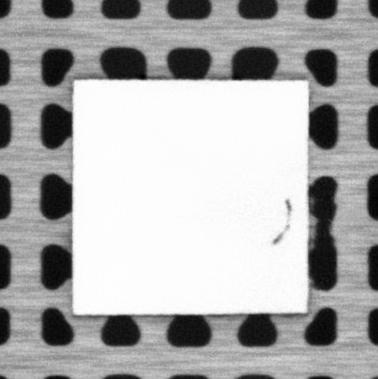DIE_INK: (273, 198, 294, 246)
